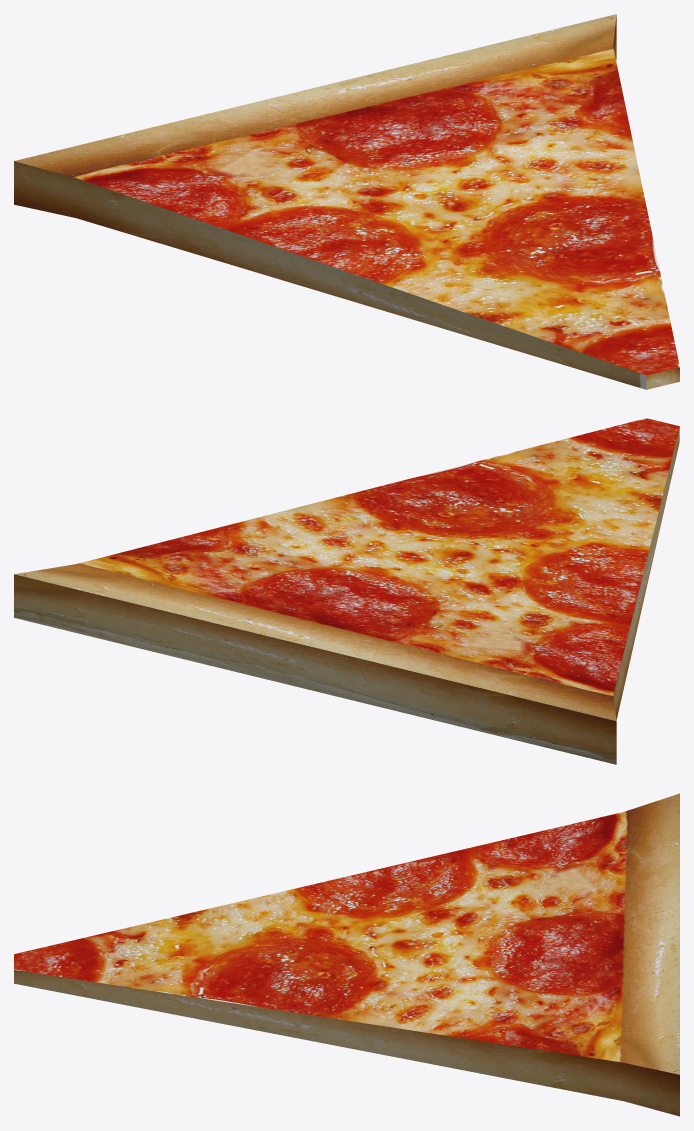
File: Pizza.fbx
3 views of the same model, one above another, from view 1: azimuth 30°, elevation 25°; view 2: azimuth 150°, elevation 25°; view 3: azimuth 270°, elevation 25° (orthographic). The views are drawn at different scales.
Parts seen in each view (by area): view 1: pCube1; view 2: pCube1; view 3: pCube1.
Part boxes in pixels (x1=…): pCube1: x1=14, y1=14, x2=679, y2=389; pCube1: x1=14, y1=418, x2=679, y2=764; pCube1: x1=14, y1=793, x2=679, y2=1116.
Bounding box in the file's own units: 11.12 × 0.7684 × 11.12.
